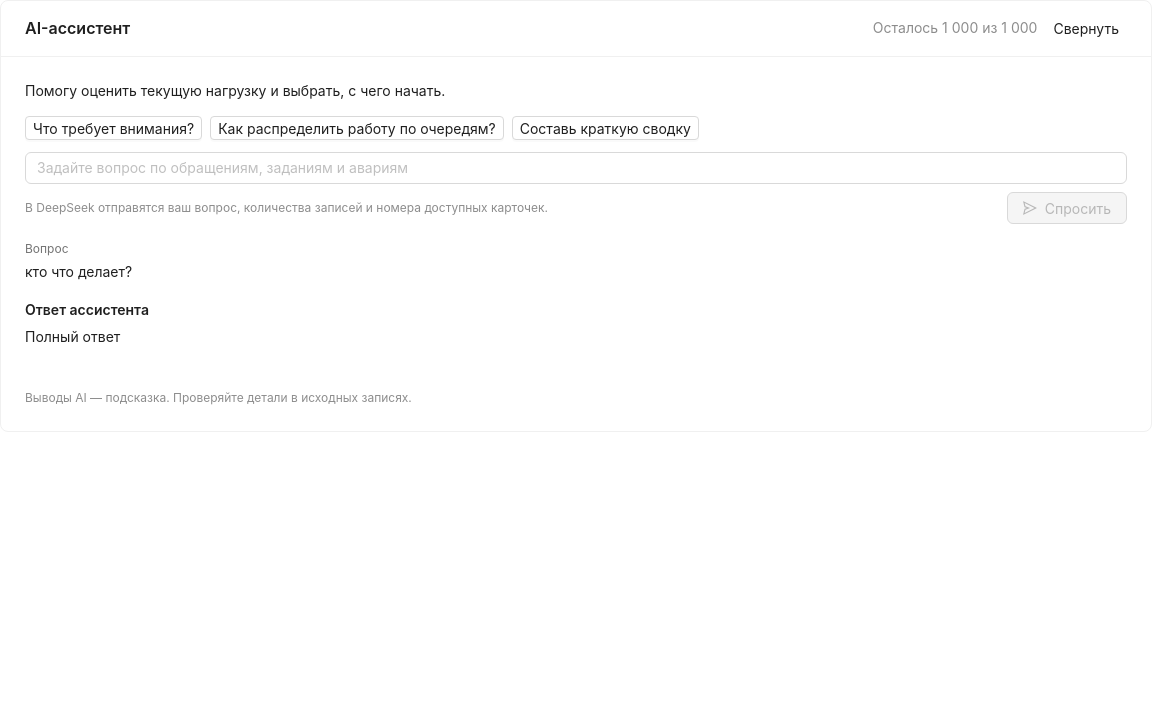
Test case: снапшот восстанавливает историю, дельты стримятся в ответ, done ставит эталонный текст
Check: the text "кто что делает?" is shown, box [25,263,132,280]
Check: the text "Полный ответ" is shown, box [25,328,120,345]
In the text box named "Вопрос ассистенту": (576, 168) [25,152,1127,184], type "просрочки?"
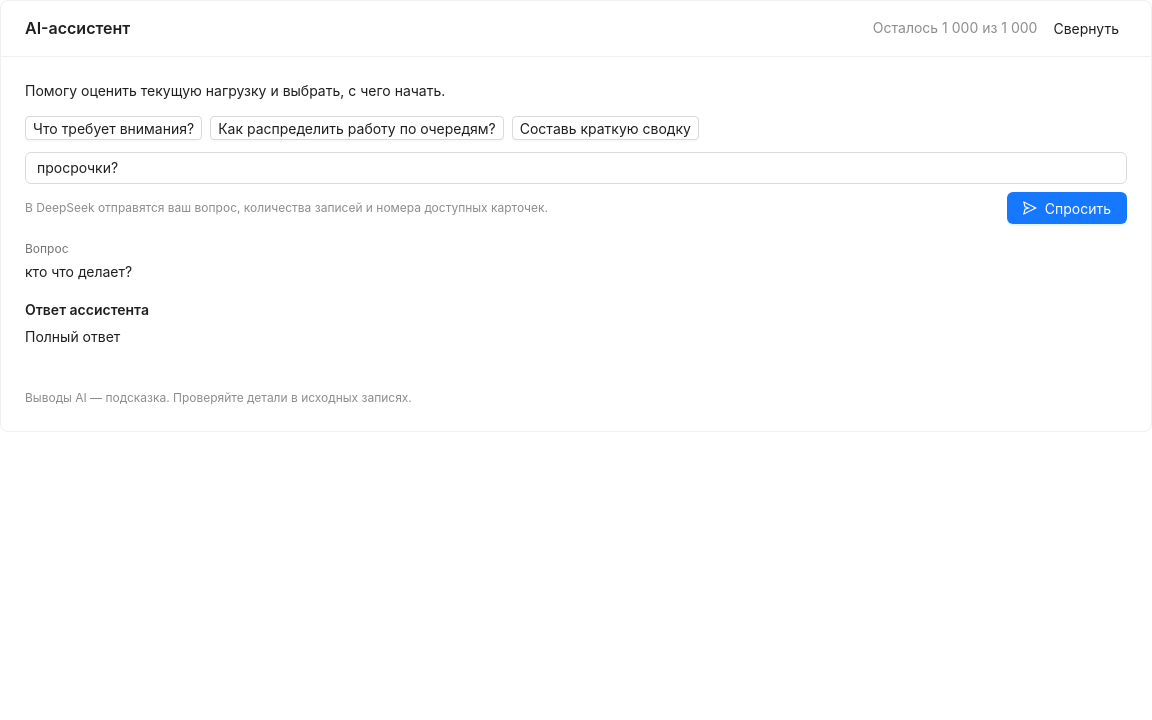
Click the button "Спросить": (1067, 208) [1007,192,1127,224]
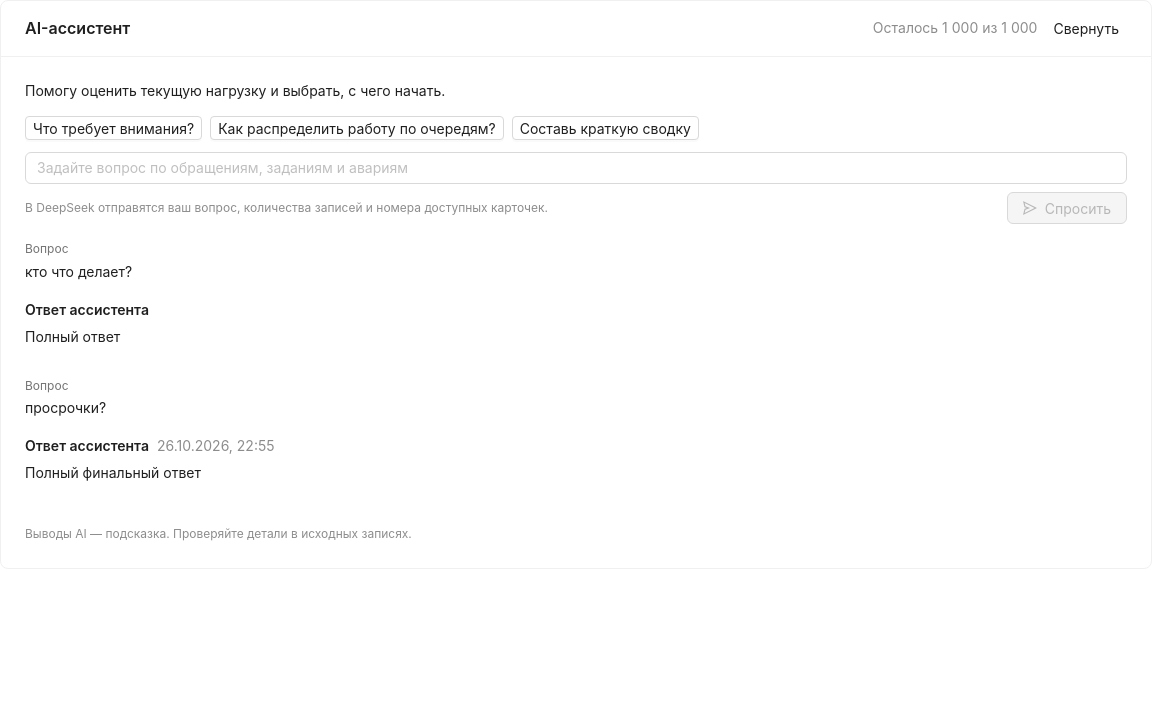
Check: the text "Спросить" is shown, box [1045,200,1111,216]
Check: the text "просрочки?" is shown, box [25,400,106,416]
Check: the text "Полный финальный ответ" is shown, box [25,464,201,482]
